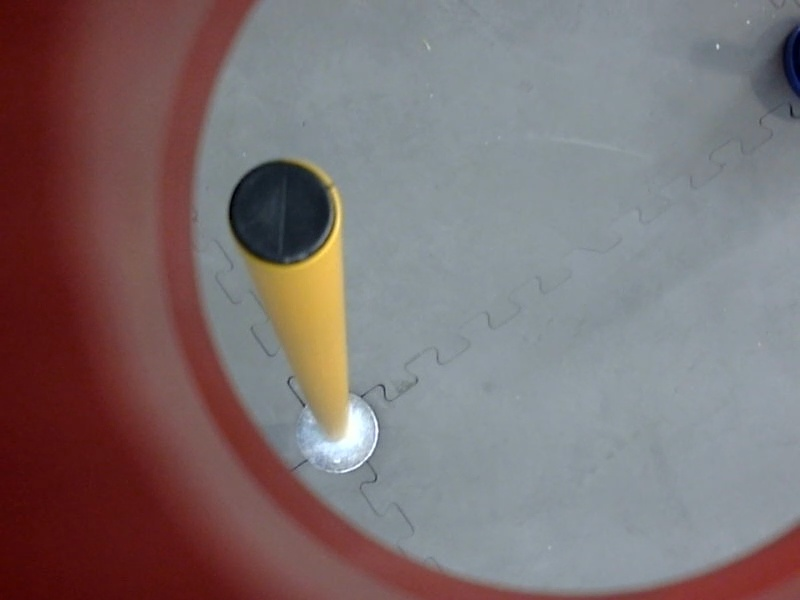tip: (223, 153, 344, 272)
